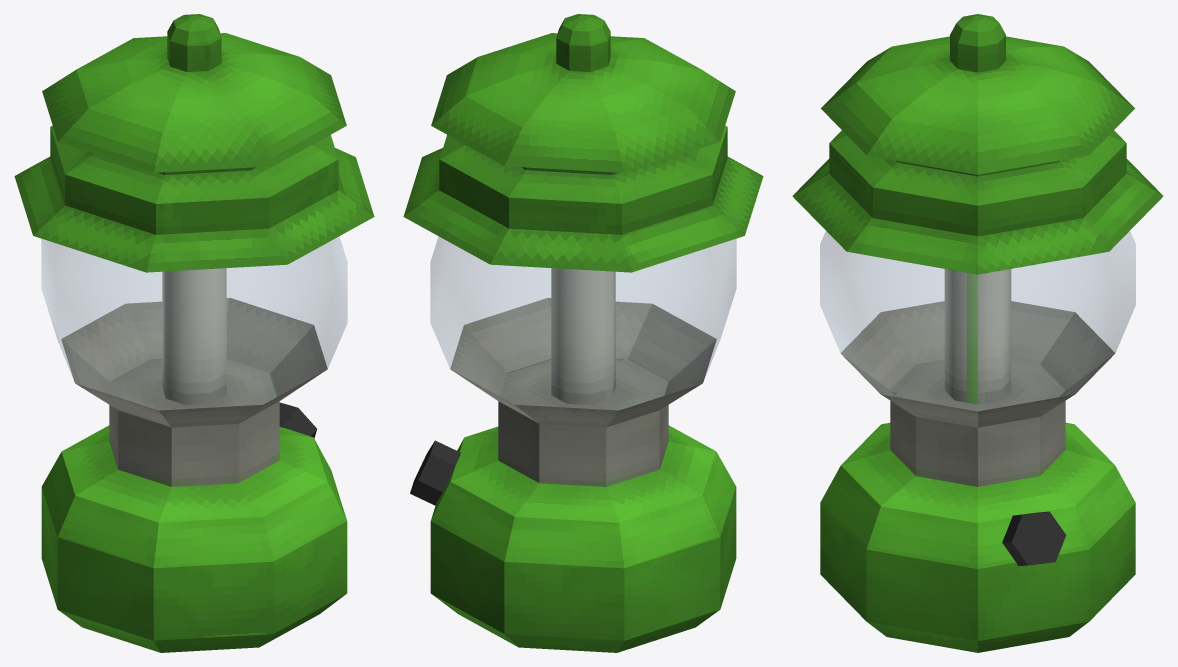
File: lantern.glb
3 views of the same model, side by side, from view 1: azimuth 30°, elevation 25°; view 2: azimuth 150°, elevation 25°; view 3: azimuth 270°, elevation 25° (orthographic).
Parts seen in each view (by area): view 1: Cube, Cube.007, Cylinder; view 2: Cube, Cube.007, Cylinder; view 3: Cube, Cube.007, Cylinder.
Part boxes in pixels (bbox=[...]): Cube: bbox=[14, 14, 374, 652]; Cube.007: bbox=[41, 236, 347, 409]; Cylinder: bbox=[279, 402, 316, 438]; Cube: bbox=[403, 14, 763, 652]; Cube.007: bbox=[430, 236, 736, 409]; Cylinder: bbox=[410, 440, 460, 505]; Cube: bbox=[792, 14, 1163, 652]; Cube.007: bbox=[820, 231, 1135, 410]; Cylinder: bbox=[1002, 511, 1066, 566].
Size of the model in its own units: 1.08 by 1.86 by 1.08.
3 materials, 1 textured.
